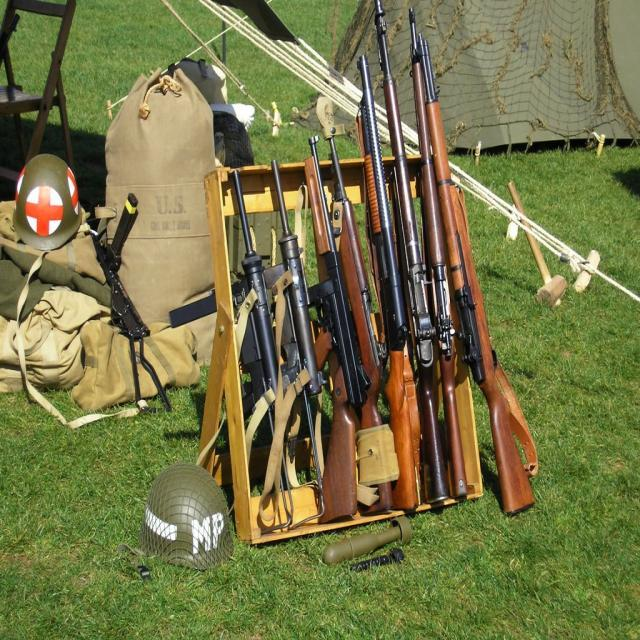weapon: (418, 33, 538, 510), (372, 0, 452, 506), (351, 49, 415, 514), (217, 165, 296, 536), (263, 158, 330, 530), (311, 129, 372, 526), (83, 187, 174, 414)
